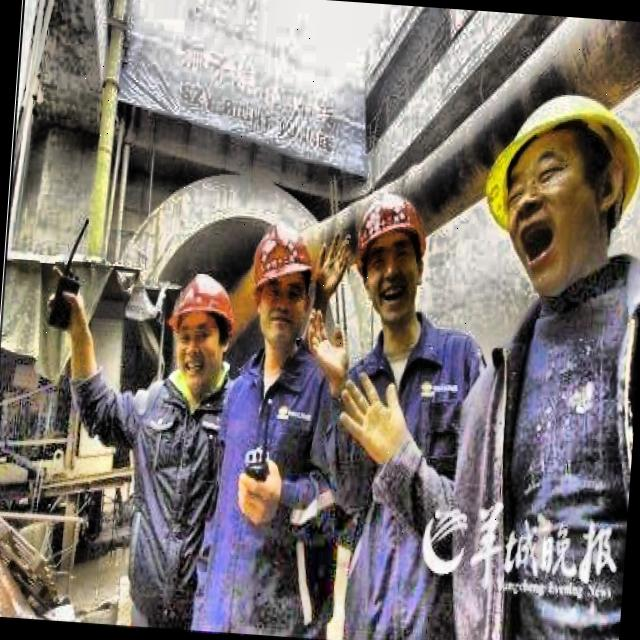helmet: (463, 66, 640, 304), (338, 184, 436, 348), (240, 221, 323, 365), (162, 269, 240, 392)
